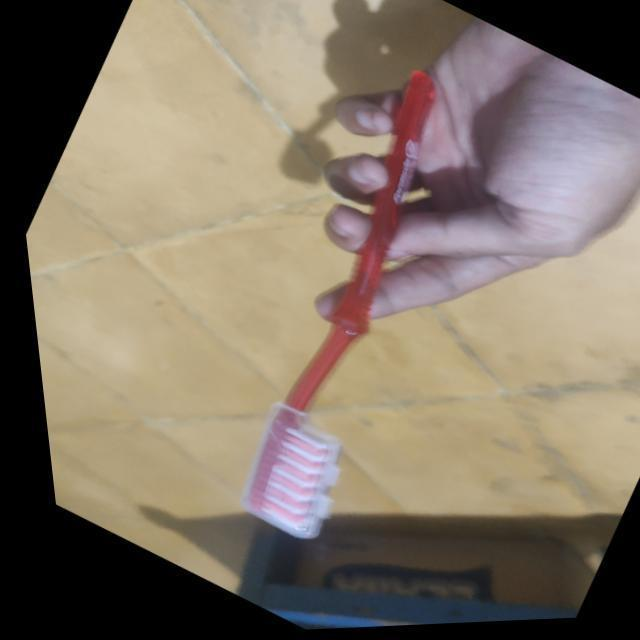toothbrush: (112, 37, 560, 575)
